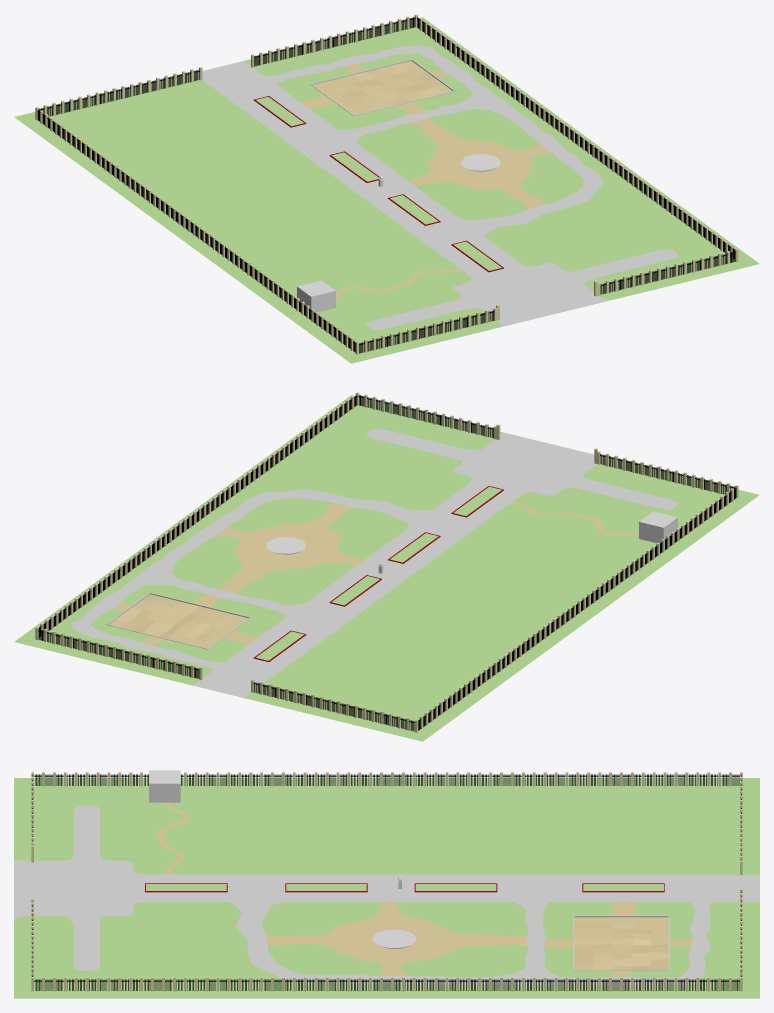
Rendered from run gelik 1.fbx.
3 renders of one model, top to bottom at view 1: azimuth 30°, elevation 25°; view 2: azimuth 150°, elevation 25°; view 3: azimuth 270°, elevation 25°, orthographic. The views are drawn at different scales.
Parts seen in each view (by area): view 1: zemlia, zabor, transformator, klumba, klumba 2, klumba 3, klumba 4; view 2: zemlia, zabor, transformator, klumba 3, klumba 4, klumba 2, klumba; view 3: zemlia, zabor, transformator, klumba 4, klumba, klumba 2, klumba 3, fontan.
Part boxes in pixels (<box>): zemlia: <box>14,17,759,363</box>; zabor: <box>35,14,738,354</box>; transformator: <box>297,280,335,312</box>; klumba: <box>451,240,503,272</box>; klumba 2: <box>388,194,440,225</box>; klumba 3: <box>253,96,306,127</box>; klumba 4: <box>329,151,379,182</box>; zemlia: <box>14,395,759,741</box>; zabor: <box>35,392,738,732</box>; transformator: <box>639,511,677,543</box>; klumba 3: <box>253,630,306,661</box>; klumba 4: <box>329,575,381,606</box>; klumba 2: <box>388,532,440,563</box>; klumba: <box>451,486,503,517</box>; zemlia: <box>14,778,759,998</box>; zabor: <box>31,772,742,991</box>; transformator: <box>149,770,180,802</box>; klumba 4: <box>414,883,497,892</box>; klumba: <box>145,883,227,892</box>; klumba 2: <box>285,883,367,892</box>; klumba 3: <box>582,883,664,892</box>; fontan: <box>372,929,416,948</box>.
Bounding box in the file's own units: 10541 × 468 × 15058.
